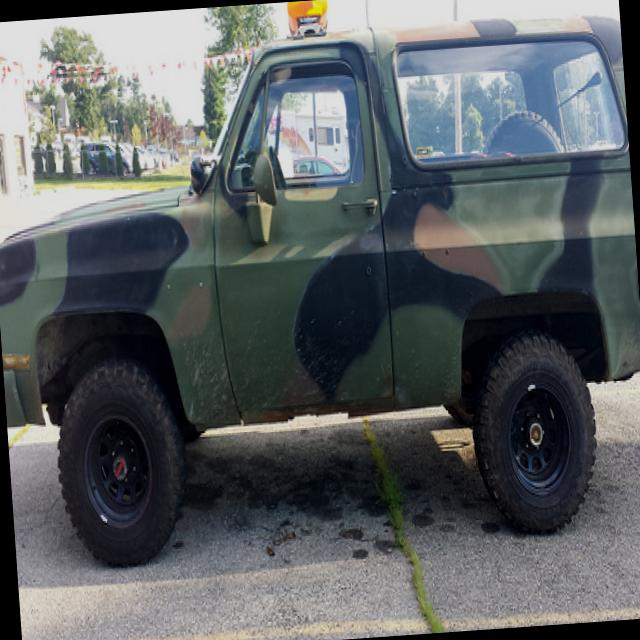Vehicle: (0, 0, 640, 576), (81, 138, 133, 177), (137, 148, 155, 170)
